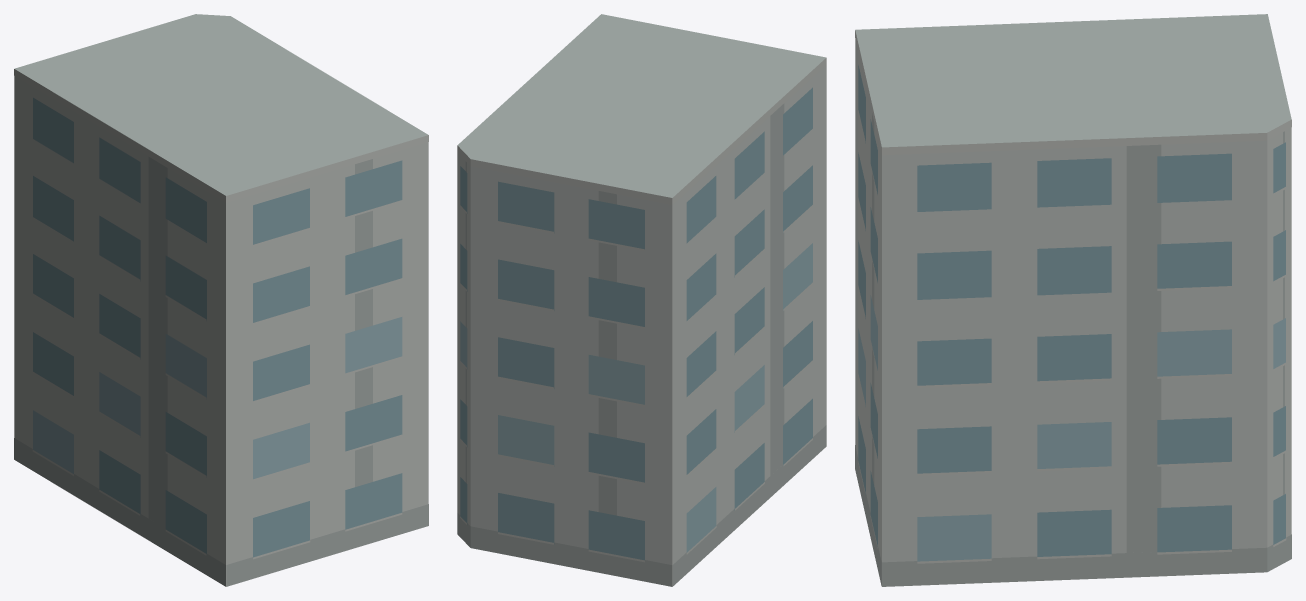
File: survey-upis-32568094.glb
The picture shows the model from 3 angles, left to right: view 1: azimuth 30°, elevation 25°; view 2: azimuth 150°, elevation 25°; view 3: azimuth 270°, elevation 25°; orthographic projection. The views are drawn at different scales.
Visible parts, largest first — view 1: survey-upis-32568094.tmp; view 2: survey-upis-32568094.tmp; view 3: survey-upis-32568094.tmp.
Boxes of the visible parts, x1=… form: survey-upis-32568094.tmp: x1=14, y1=14, x2=428, y2=586; survey-upis-32568094.tmp: x1=457, y1=14, x2=826, y2=586; survey-upis-32568094.tmp: x1=855, y1=14, x2=1291, y2=586.
Size of the model in its own units: 8.83 by 13.55 by 12.21.
